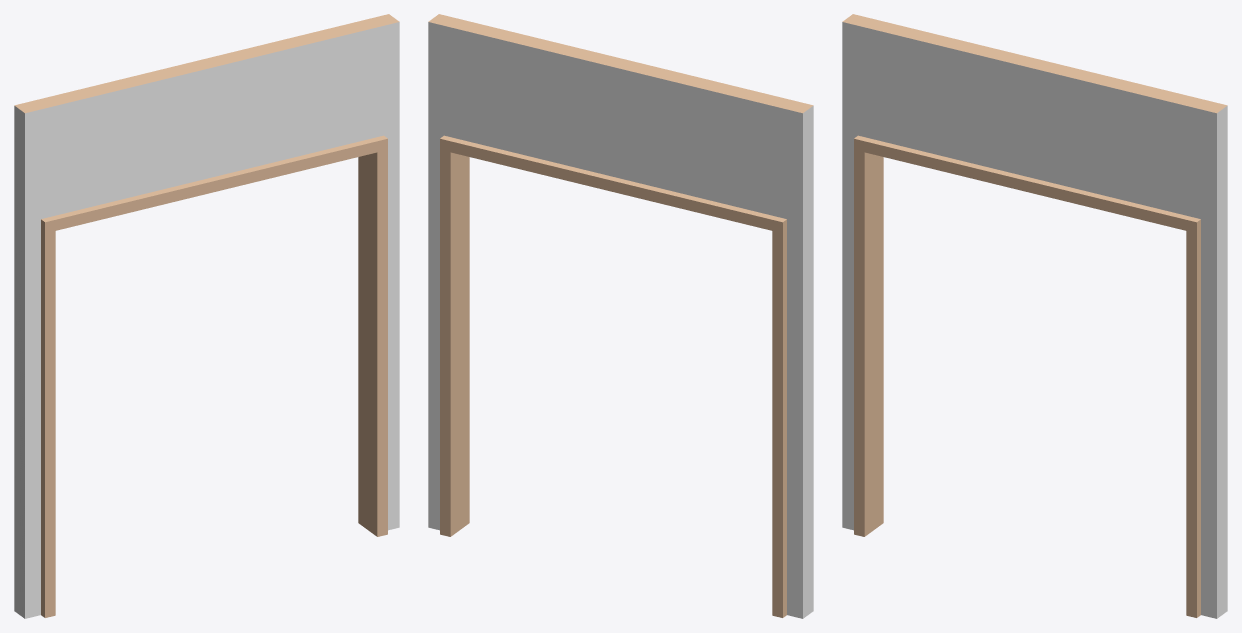
File: wallDoorwayWide.glb
3 views of the same model, side by side, from view 1: azimuth 30°, elevation 25°; view 2: azimuth 150°, elevation 25°; view 3: azimuth 330°, elevation 25° (orthographic).
Parts seen in each view (by area): view 1: wallDoorwayWide(Clone); view 2: wallDoorwayWide(Clone); view 3: wallDoorwayWide(Clone).
Boxes of the visible parts, <box> form: wallDoorwayWide(Clone): <box>14,14,399,618</box>; wallDoorwayWide(Clone): <box>428,14,813,618</box>; wallDoorwayWide(Clone): <box>842,14,1227,618</box>.
Size of the model in its own units: 1 by 1.29 by 0.0891.
